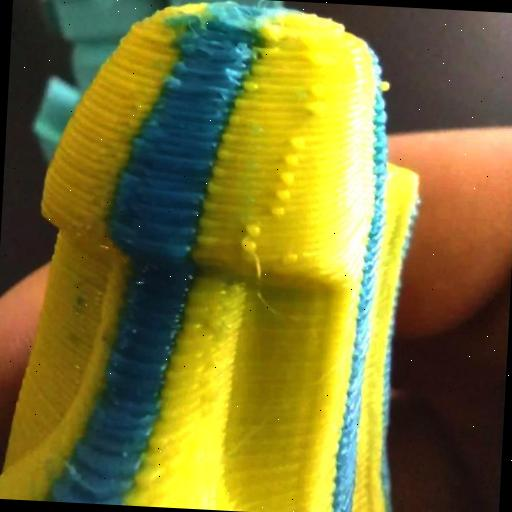blobs: (270, 164, 306, 188), (265, 199, 293, 222), (270, 185, 298, 204), (298, 30, 322, 52), (236, 231, 260, 253), (163, 76, 188, 97), (303, 82, 328, 102), (285, 133, 311, 152), (240, 220, 265, 238), (278, 152, 304, 169), (372, 78, 396, 95), (238, 76, 258, 96), (166, 57, 188, 74), (306, 52, 324, 68)
